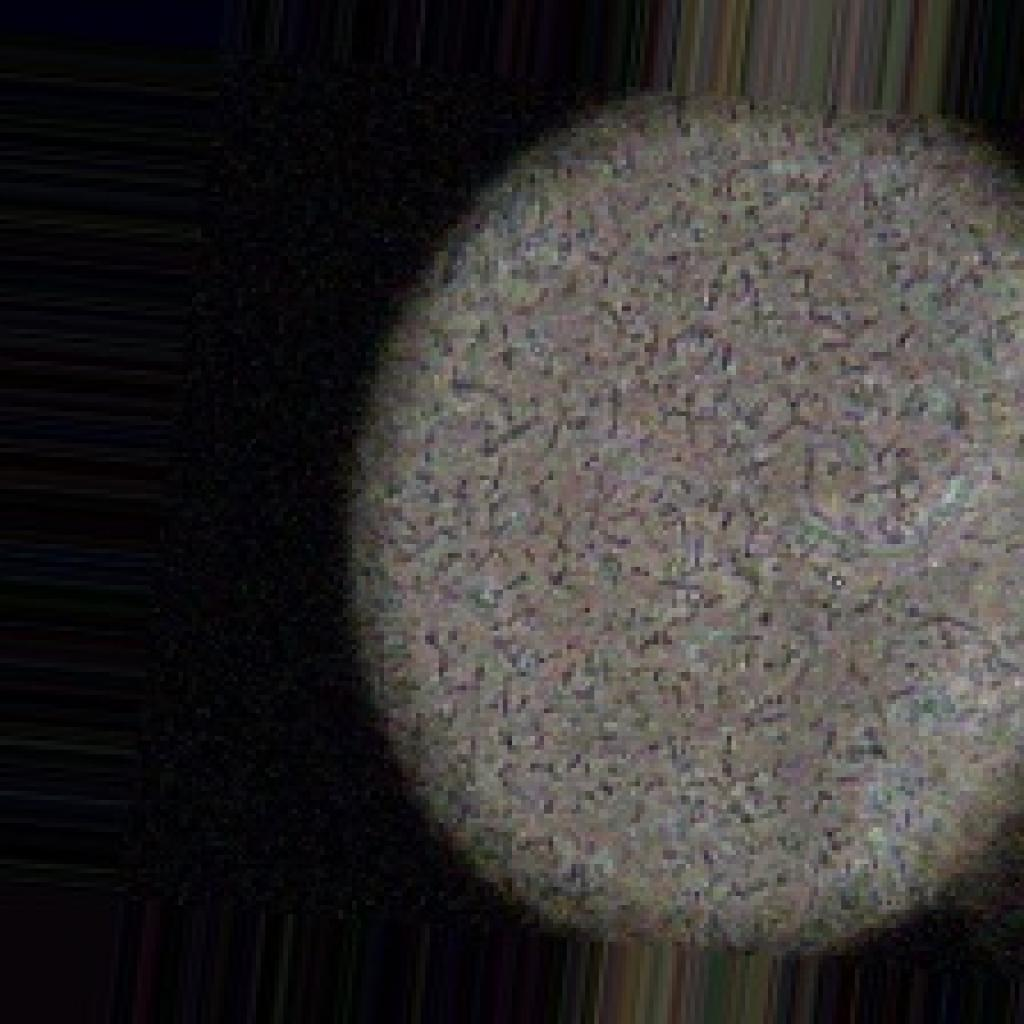Sprialbacteria: (334, 82, 1019, 951)
